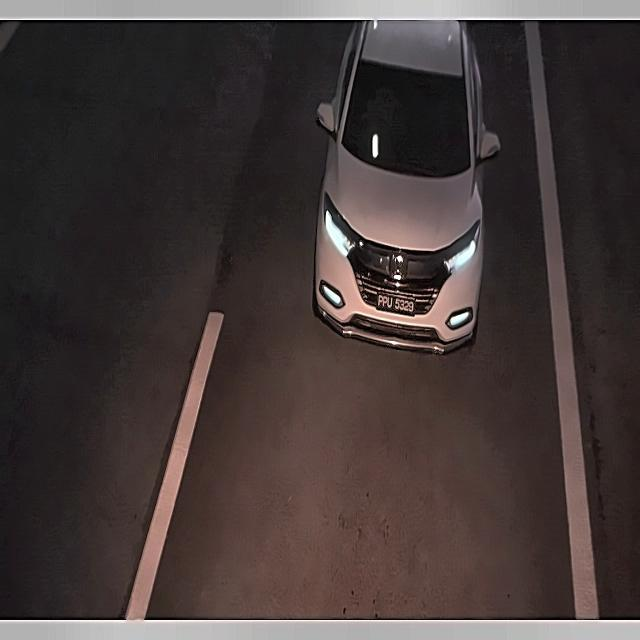car: (373, 288, 418, 322)
